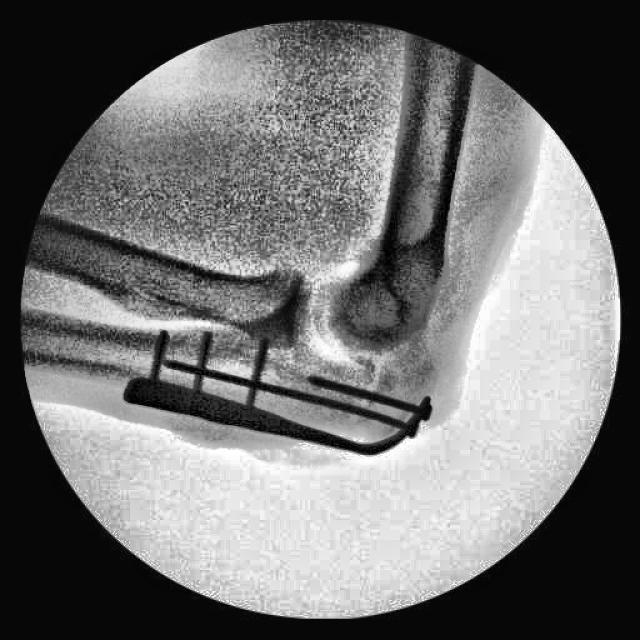elbow positive: (322, 341, 436, 435)
